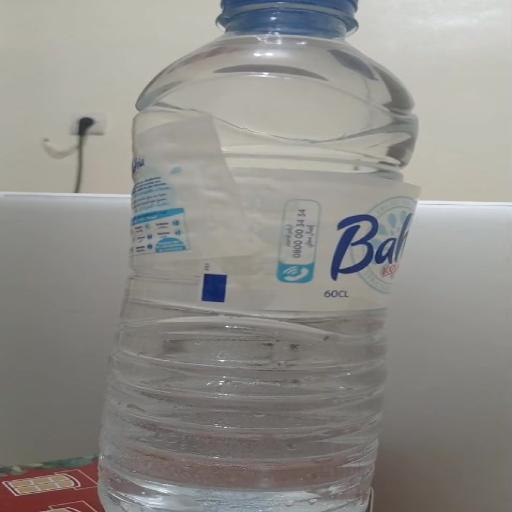bouteille conformite: (141, 1, 402, 512)
